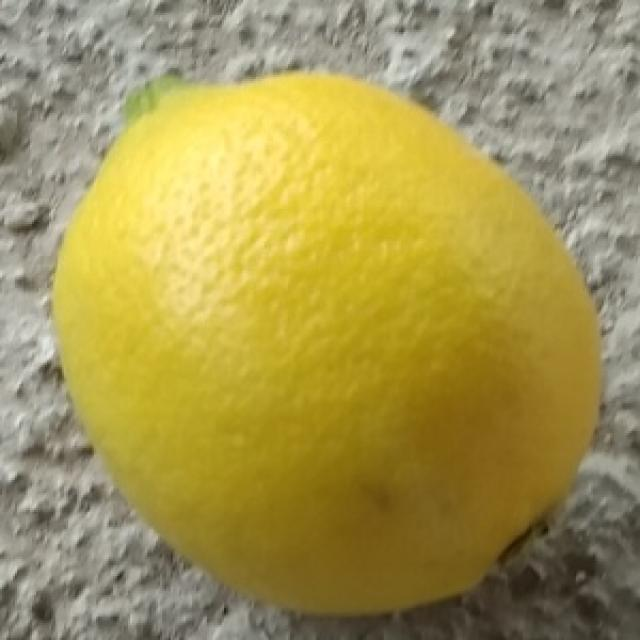Ripe: (44, 71, 614, 619)
